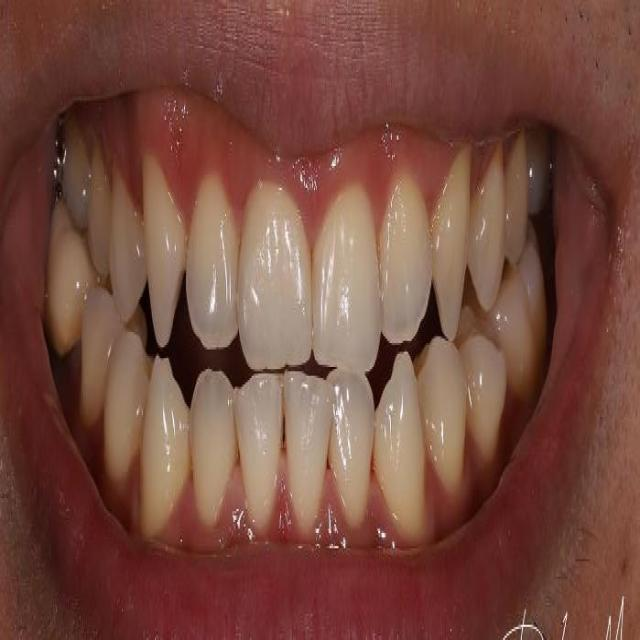1st Molar: (491, 238, 549, 406), (45, 199, 96, 360), (61, 116, 91, 231), (528, 133, 553, 220)
1st Premolar: (418, 339, 469, 493), (103, 334, 152, 486), (468, 158, 504, 312), (110, 173, 146, 323)
2nd Premolar: (459, 302, 508, 467), (79, 286, 120, 426), (89, 149, 111, 278), (505, 135, 526, 260)
Canine: (373, 352, 426, 544), (140, 356, 189, 537), (144, 153, 187, 352), (431, 144, 472, 345)
Central Incisor: (238, 177, 313, 374), (313, 178, 382, 374), (281, 371, 332, 535), (234, 374, 283, 533)
Lateral Incisor: (185, 173, 239, 349), (380, 175, 434, 349), (190, 371, 237, 531), (330, 369, 376, 530)
